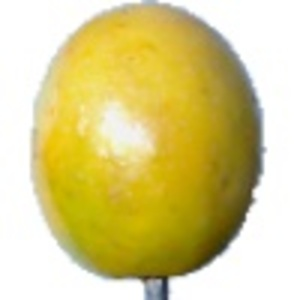maracujá: (28, 1, 266, 300)
